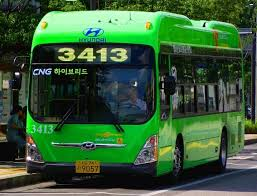bnum: (53, 45, 131, 63)
